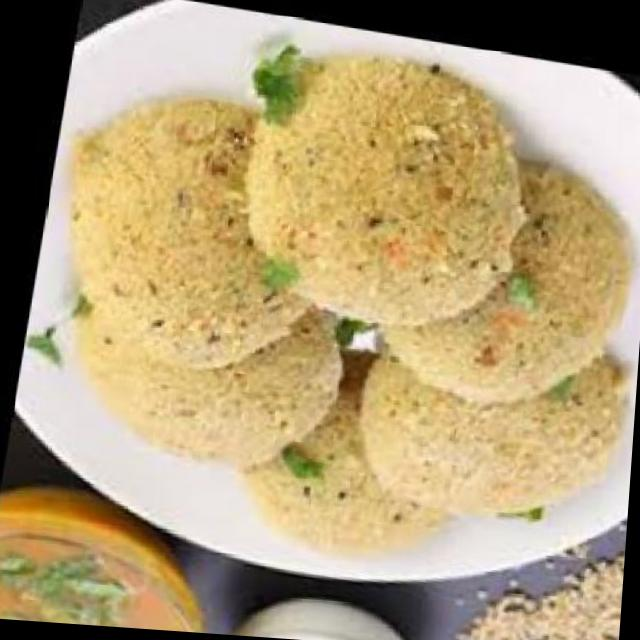idli: (217, 32, 536, 337), (30, 74, 334, 381), (366, 128, 639, 412), (342, 303, 632, 526), (48, 266, 346, 478), (221, 326, 476, 568)
